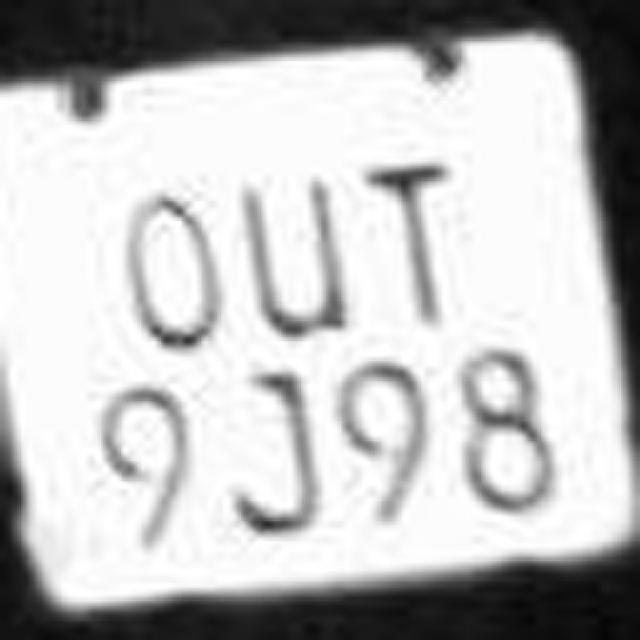8: (429, 328, 556, 552)
9: (300, 336, 432, 536), (76, 344, 192, 551)
J: (196, 340, 324, 552)
O: (108, 156, 248, 356)
T: (355, 152, 500, 340)
U: (200, 144, 395, 356)
